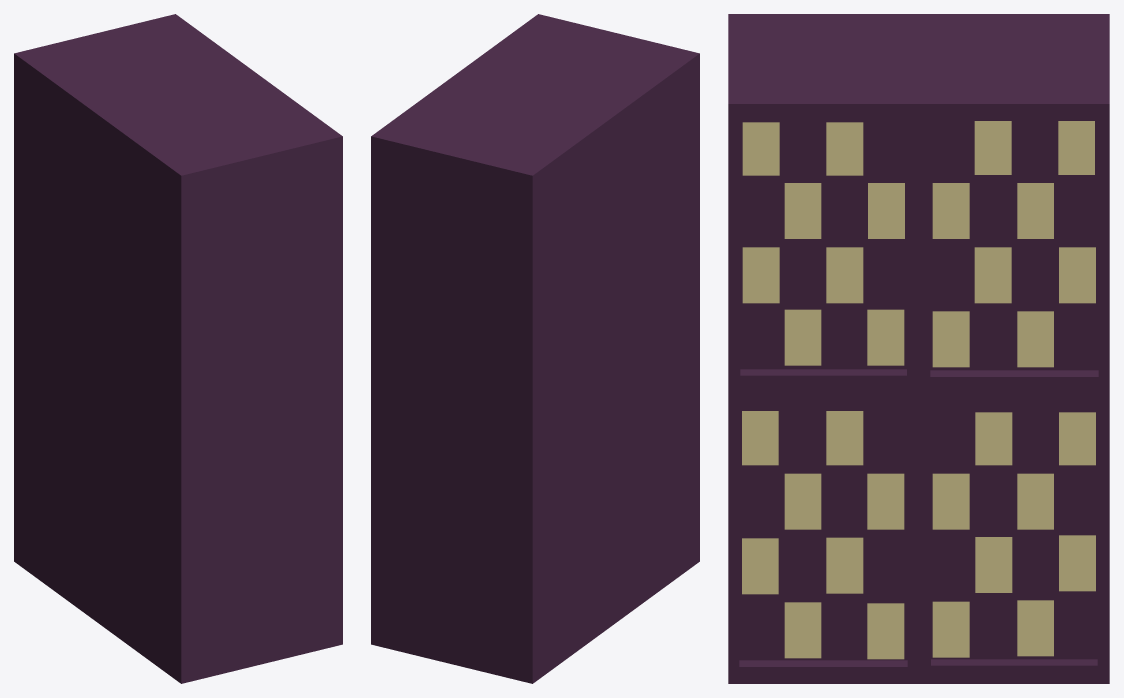
File: Purple Building.glb
3 renders of one model, left to right at view 1: azimuth 30°, elevation 25°; view 2: azimuth 150°, elevation 25°; view 3: azimuth 270°, elevation 25°, orthographic. The views are drawn at different scales.
Visible parts, largest first — view 1: Cube.001; view 2: Cube.001; view 3: Cube.001.
Part boxes in pixels (<box>): Cube.001: <box>14,14,342,683</box>; Cube.001: <box>371,14,699,683</box>; Cube.001: <box>728,14,1109,683</box>.
Size of the model in its own units: 3.59 by 10.78 by 6.43.
